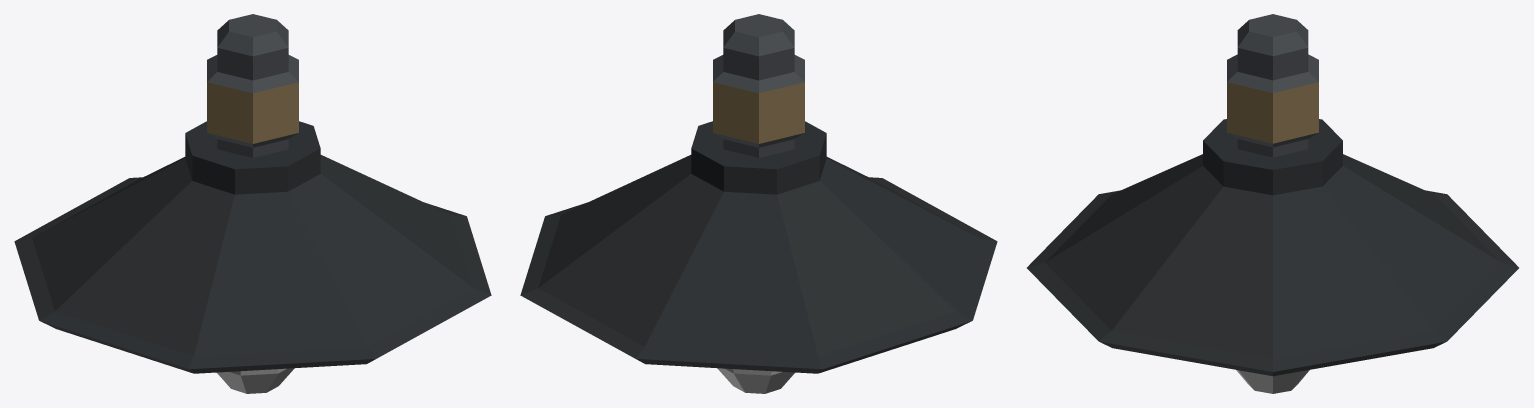
File: SM_Prop_Light_03.obj
The picture shows the model from 3 angles, left to right: view 1: azimuth 30°, elevation 25°; view 2: azimuth 150°, elevation 25°; view 3: azimuth 270°, elevation 25°; orthographic projection.
Parts seen in each view (by area): view 1: SM_Prop_Light_03_0; view 2: SM_Prop_Light_03_0; view 3: SM_Prop_Light_03_0.
Boxes of the visible parts, <box> form: SM_Prop_Light_03_0: <box>14,14,491,393</box>; SM_Prop_Light_03_0: <box>520,14,997,393</box>; SM_Prop_Light_03_0: <box>1027,14,1518,393</box>.
Bounding box in the file's own units: 0.5941 × 0.4847 × 0.5941.
1 material, 1 textured.
